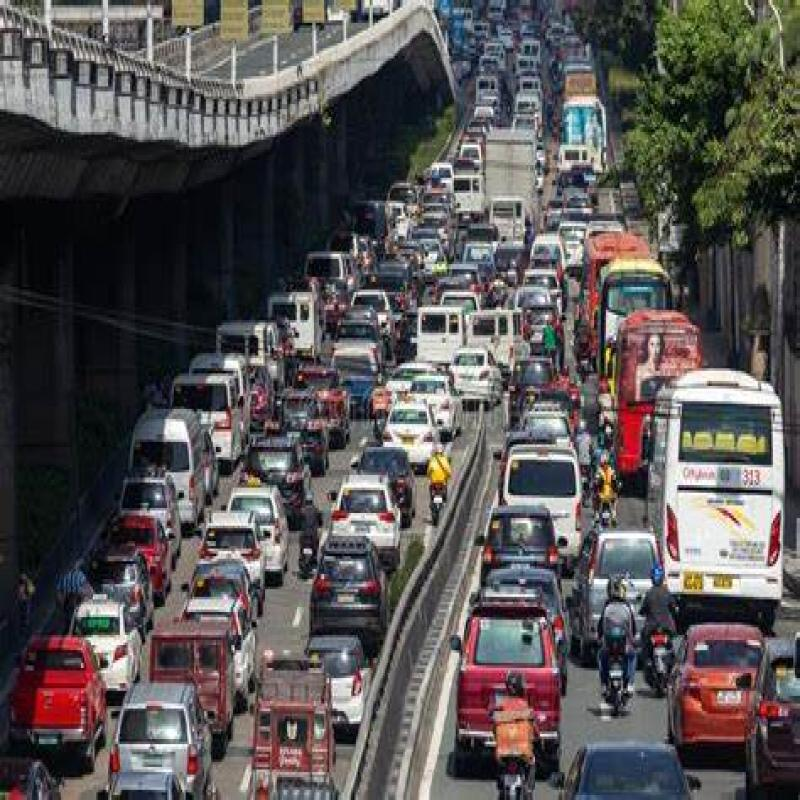car: (457, 590, 563, 772), (495, 429, 582, 571), (678, 616, 770, 742), (477, 501, 573, 613), (561, 725, 697, 800), (170, 485, 254, 604), (107, 681, 200, 782), (585, 536, 660, 660), (74, 584, 146, 697), (307, 552, 392, 646), (138, 412, 202, 530), (379, 400, 458, 495), (328, 474, 393, 554), (446, 352, 494, 432)
